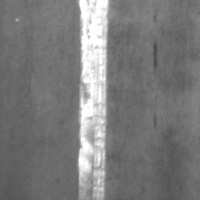inclusion: (147, 35, 162, 76)
scratches: (74, 2, 111, 199)
